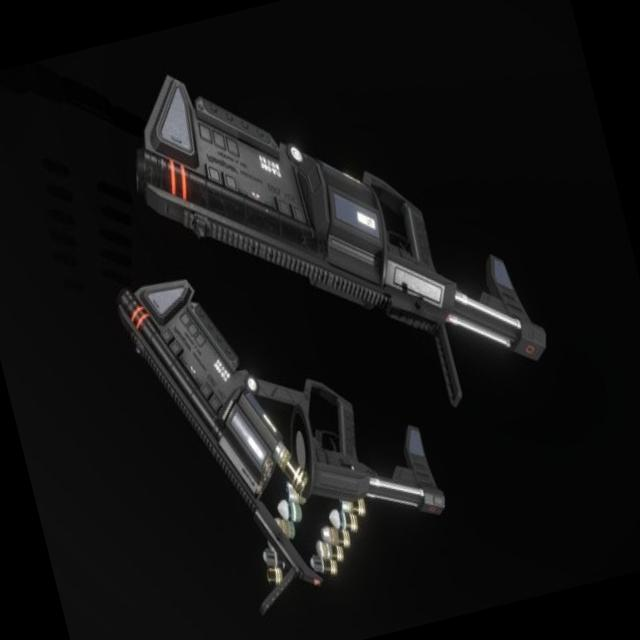Weapon: (110, 0, 562, 471), (82, 217, 462, 640)
